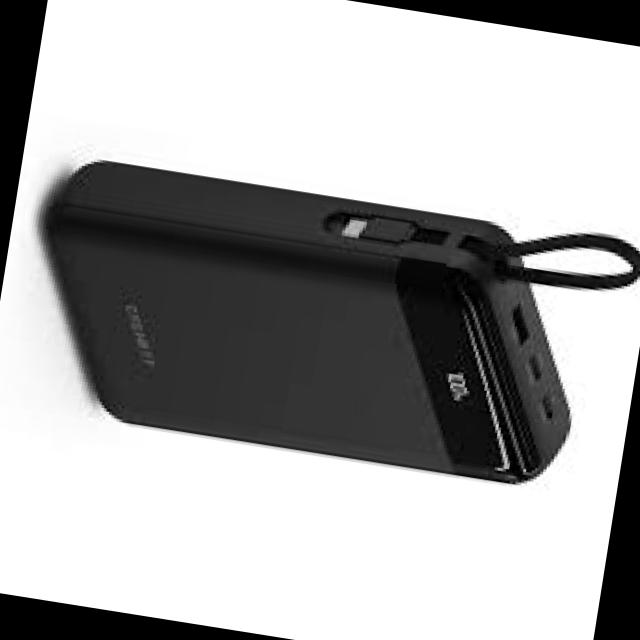portable-charger: (9, 148, 606, 497)
